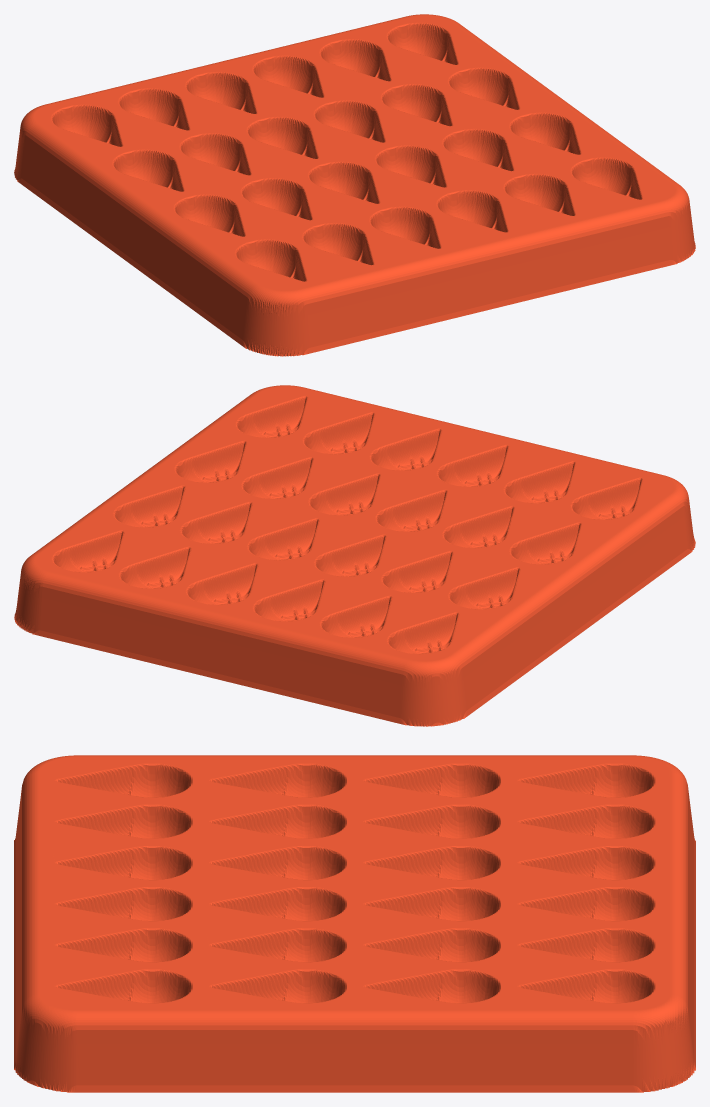
Rendered from mold.glb.
3 views of the same model, one above another, from view 1: azimuth 30°, elevation 25°; view 2: azimuth 150°, elevation 25°; view 3: azimuth 270°, elevation 25° (orthographic). The views are drawn at different scales.
Visible parts, largest first — view 1: geometry_0; view 2: geometry_0; view 3: geometry_0.
Boxes of the visible parts, x1,y1,x2,y2 form: geometry_0: (14,14,695,356); geometry_0: (14,385,695,726); geometry_0: (14,755,695,1092).
Bounding box in the file's own units: 0.0933 × 0.0114 × 0.098.
